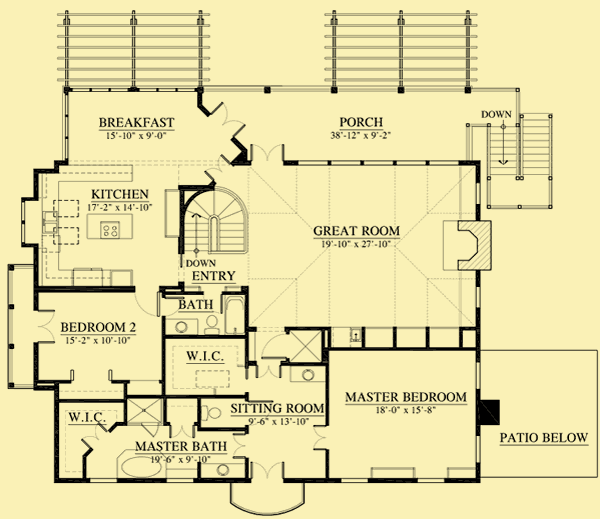door: (209, 99, 247, 139), (31, 306, 58, 345), (247, 142, 289, 165), (77, 418, 107, 450), (131, 287, 161, 317), (259, 332, 289, 361), (250, 459, 286, 483), (312, 423, 332, 453), (254, 362, 284, 381)
kitchen_bar: (82, 212, 136, 242)
large_sink: (200, 312, 225, 338), (199, 400, 222, 423)
small_sink: (162, 316, 200, 337), (289, 363, 327, 384), (202, 462, 246, 479)
stairs: (486, 106, 555, 212), (182, 188, 251, 259)
tub: (111, 446, 170, 480), (221, 293, 245, 335)
window: (473, 285, 485, 310), (20, 198, 26, 243)
